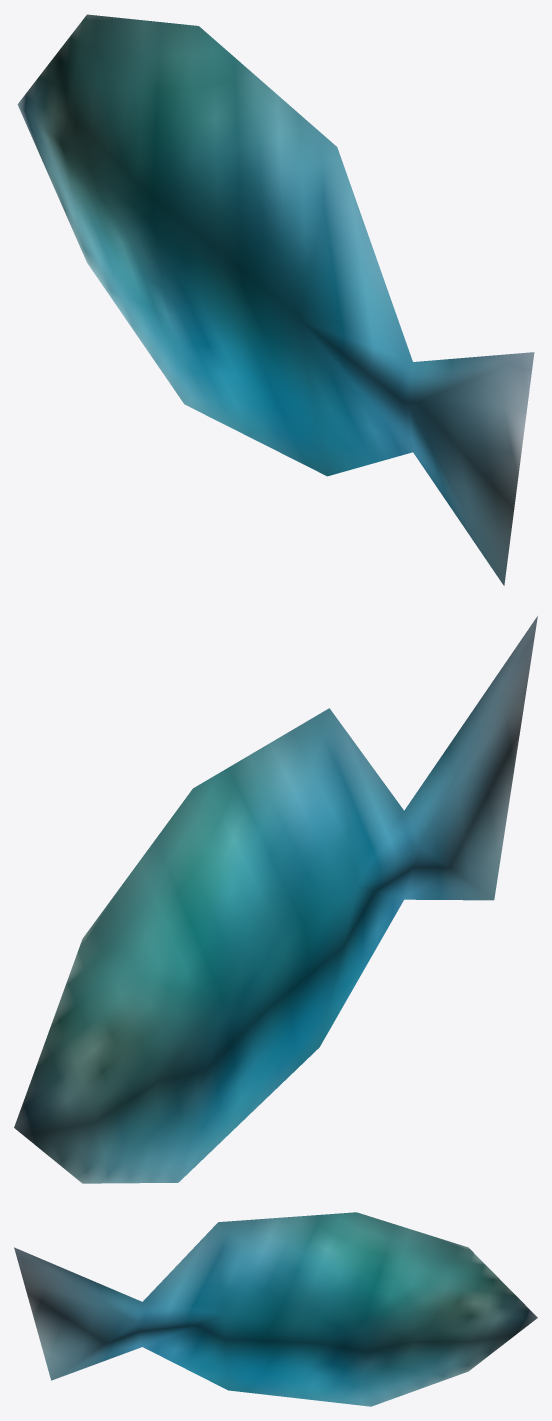
The model's file is animal.fish_7.glb.
The picture shows the model from 3 angles, top to bottom: view 1: azimuth 30°, elevation 25°; view 2: azimuth 150°, elevation 25°; view 3: azimuth 270°, elevation 25°; orthographic projection. The views are drawn at different scales.
Parts seen in each view (by area): view 1: Cube015; view 2: Cube015; view 3: Cube015.
Part boxes in pixels (x1=…): Cube015: x1=17, y1=14, x2=534, y2=585; Cube015: x1=14, y1=616, x2=537, y2=1183; Cube015: x1=14, y1=1212, x2=537, y2=1406.
Size of the model in its own units: 0.038 by 0.1843 by 0.45.
Materials: 1 (1 with a texture image).
